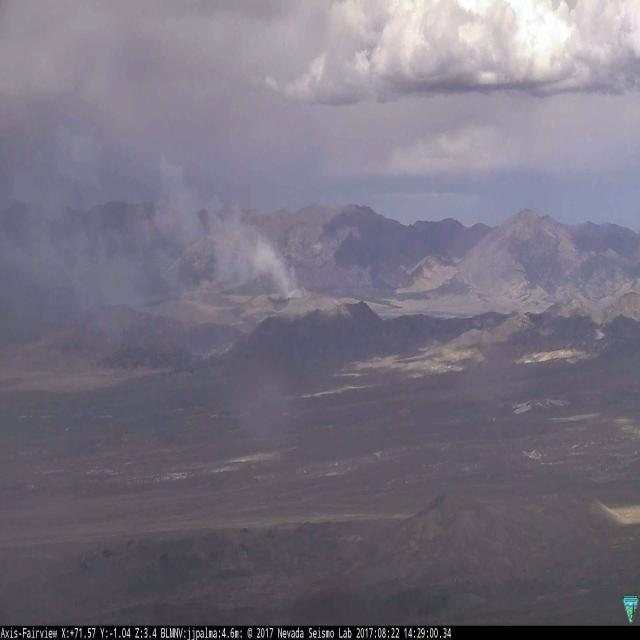smoke: (161, 151, 306, 302)
